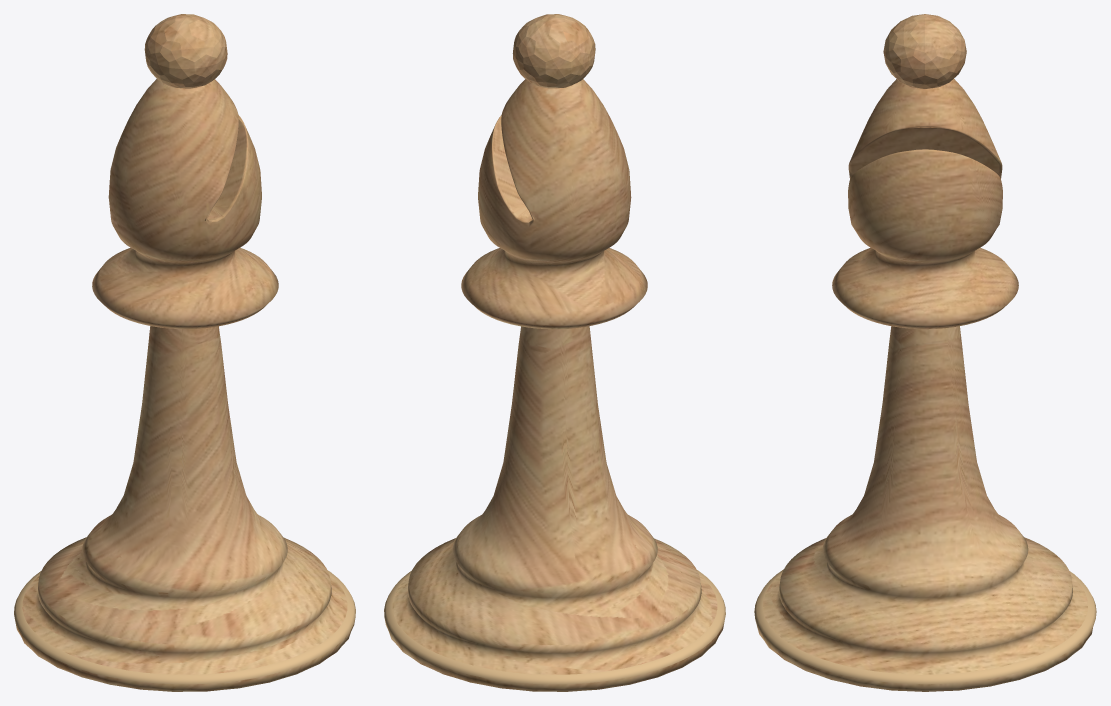
Rendered from bishop_white.glb.
The picture shows the model from 3 angles, left to right: view 1: azimuth 30°, elevation 25°; view 2: azimuth 150°, elevation 25°; view 3: azimuth 270°, elevation 25°; orthographic projection.
Visible parts, largest first — view 1: Cylinder; view 2: Cylinder; view 3: Cylinder.
Part boxes in pixels (bbox=[...]): Cylinder: bbox=[14, 14, 355, 691]; Cylinder: bbox=[384, 14, 725, 691]; Cylinder: bbox=[754, 14, 1096, 691].
Bounding box in the file's own units: 0.5998 × 1.19 × 0.5998.
Materials: 1 (1 with a texture image).
